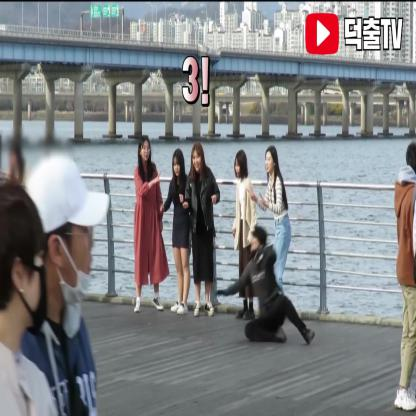Fall_Down: (214, 226, 317, 350)
